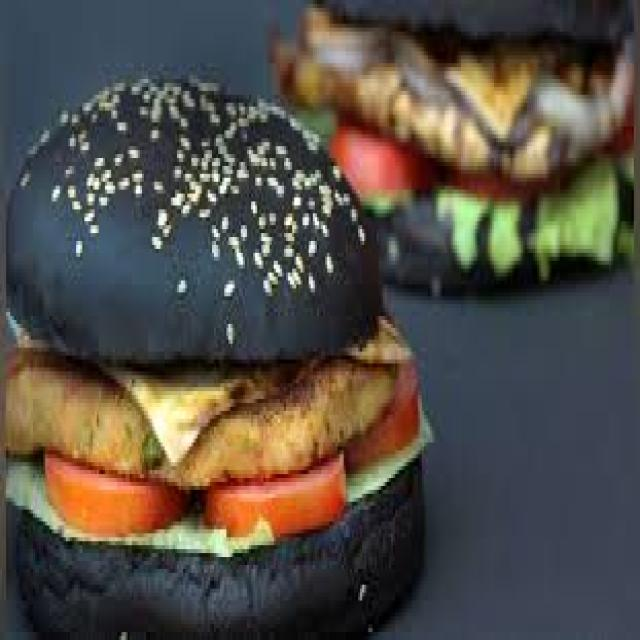Wet Waste: (17, 84, 420, 640)
